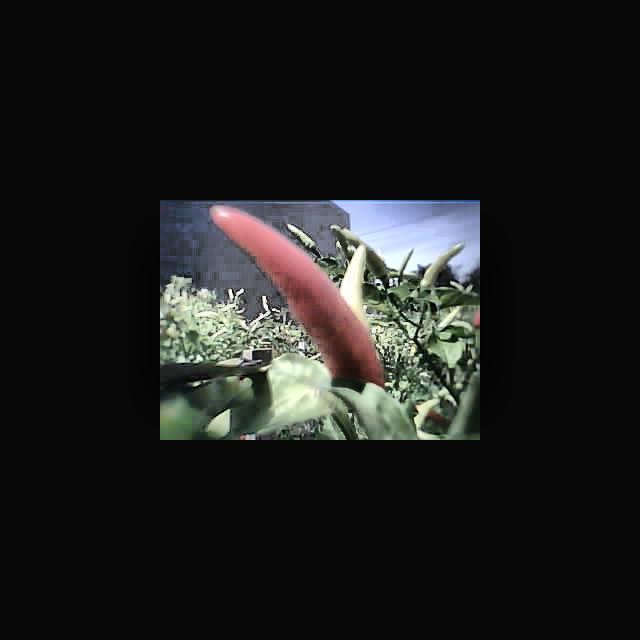Cabai: (212, 203, 283, 320), (318, 292, 352, 353)
